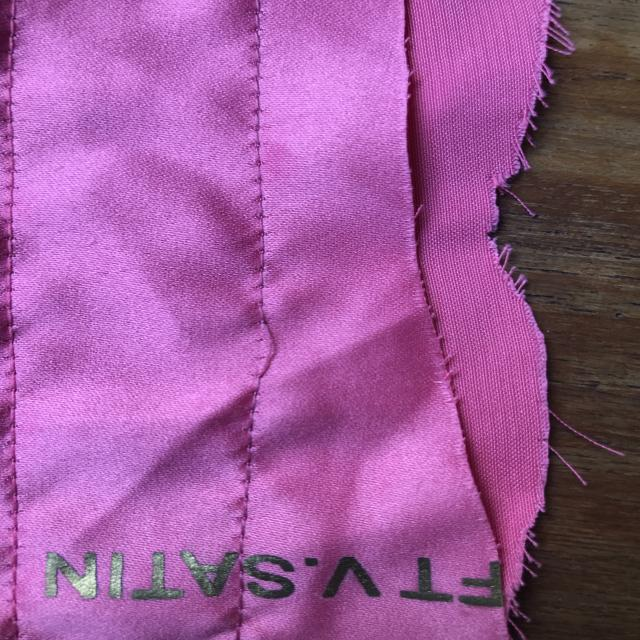skip: (247, 294, 300, 397)
